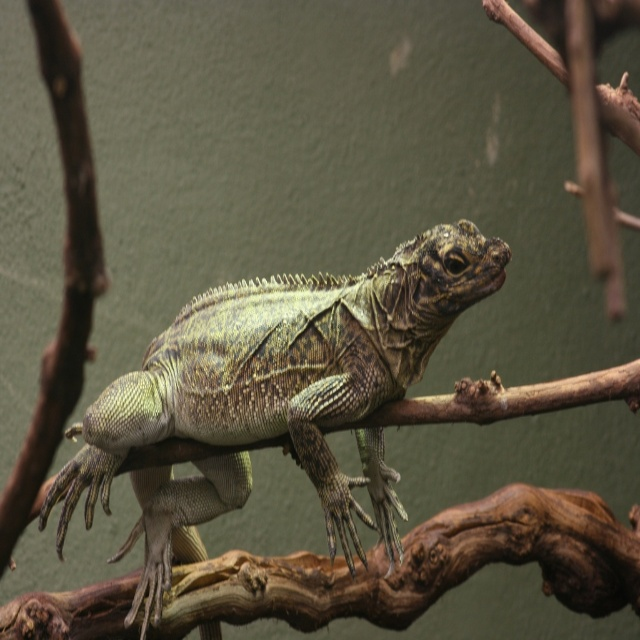Lizard: (38, 216, 512, 640)
